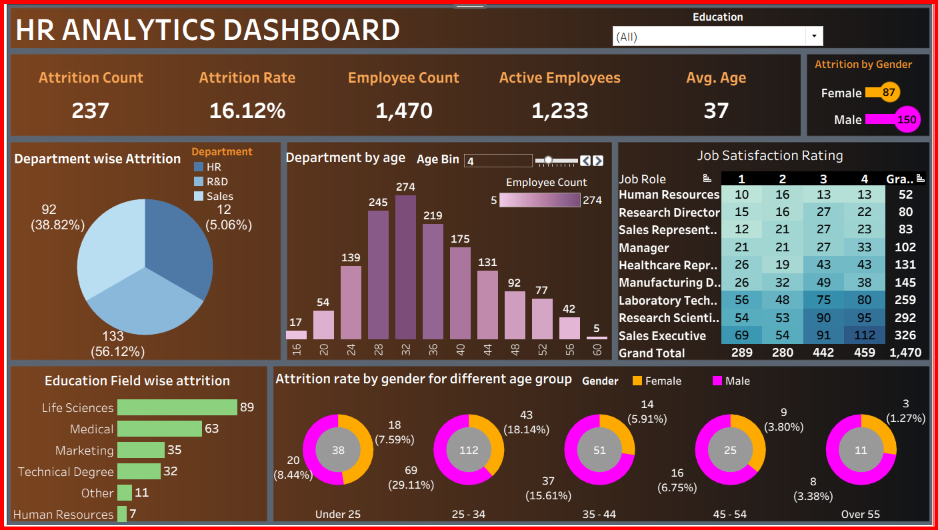

What the dashboard file says about the page in this screenshot:
{"tool":"tableau","page":{"name":"HR Analytics","canvas":[1000,1000],"units":"permille","ordinal":0},"visuals":[{"type":"image","param":"C:/Users/Payal/Desktop/HR background.png","box":[5.1,10,989.8,980]},{"type":"text","box":[35.4,24.8,831.1,70.7]},{"type":"filter","title":"Department by age ","param":"[federated.1ok0ufb0tfk1n915w2taa1ayry70].[none:Education:nk]","box":[628.7,24.8,196.3,83.1]},{"type":"worksheet","title":"Attrition by Gender","mark":"Automatic","rows":["Gender"],"cols":["Calculation_0264720652693504","Calculation_0264720652693504"],"box":[772.1,107.5,101.9,146.2]},{"type":"worksheet","title":"KPI","mark":"Automatic","box":[25.5,118.8,715.5,136.2]},{"type":"worksheet","title":"Job Satisfaction Rating","mark":"Square","rows":["Job Role"],"cols":["Job Satisfaction"],"box":[593.2,272.5,285.2,407.5]},{"type":"legend","title":"Department wise attrition","param":"[federated.1ok0ufb0tfk1n915w2taa1ayry70].[none:Department:nk]","box":[189.1,275,77,115]},{"type":"worksheet","title":"Department by age ","mark":"Automatic","rows":["Employee Count"],"cols":["Age (bin)"],"box":[276.9,276.2,301.1,397.5]},{"type":"worksheet","title":"Department wise attrition","mark":"Pie","box":[15.3,278.8,245.1,398.8]},{"type":"parameter","param":"[Parameters].[Parameter 0264721113272323]","box":[404.2,290,175.1,52.5]},{"type":"legend","title":"Department by age ","param":"[federated.1ok0ufb0tfk1n915w2taa1ayry70].[sum:Employee Count:qk]","box":[468.5,332.5,107.6,77.5]},{"type":"worksheet","title":"Attrition rate by gender for different age group","mark":"Pie","rows":["Calculation_0264722137497607","Calculation_0264722137497607"],"cols":["CF_age band"],"box":[275.6,688.8,598.4,290]},{"type":"worksheet","title":"Education Field wise attrition","mark":"Automatic","rows":["Education Field"],"cols":["Calculation_0264720652693504"],"box":[15.3,692.5,232.3,291.2]},{"type":"legend","title":"Attrition rate by gender for different age group","param":"[federated.1ok0ufb0tfk1n915w2taa1ayry70].[none:Gender:nk]","box":[602.4,702.2,312.2,50.9]}]}

Visuals, with their boxes on the dashboard's canvas, which has no fixed pixel size, in thousandths of its width and height (x1, y1, x2, y2). These are canvas units, not pixel positions in the 938x530 screenshot, which may show the page scaled, cropped or inside an application window:
image: crop(5, 10, 995, 990)
text: crop(35, 25, 866, 96)
"Department by age " filter: crop(629, 25, 825, 108)
"Attrition by Gender" worksheet: crop(772, 108, 874, 254)
"KPI" worksheet: crop(26, 119, 741, 255)
"Job Satisfaction Rating" worksheet (Square marks): crop(593, 272, 878, 680)
"Department wise attrition" legend: crop(189, 275, 266, 390)
"Department by age " worksheet: crop(277, 276, 578, 674)
"Department wise attrition" worksheet (Pie marks): crop(15, 279, 260, 678)
parameter: crop(404, 290, 579, 342)
"Department by age " legend: crop(468, 332, 576, 410)
"Attrition rate by gender for different age group" worksheet (Pie marks): crop(276, 689, 874, 979)
"Education Field wise attrition" worksheet: crop(15, 692, 248, 984)
"Attrition rate by gender for different age group" legend: crop(602, 702, 915, 753)
